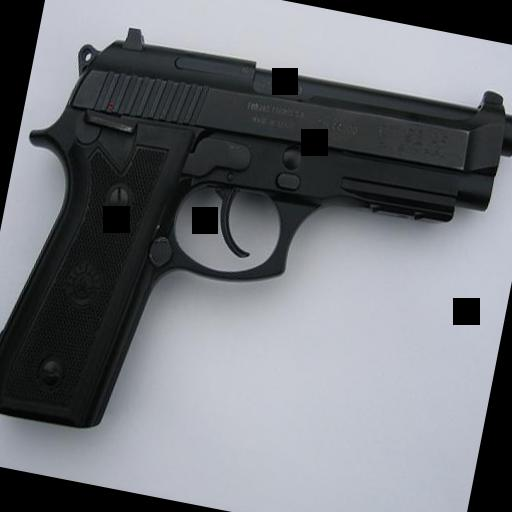Handgun: (0, 5, 512, 501)
